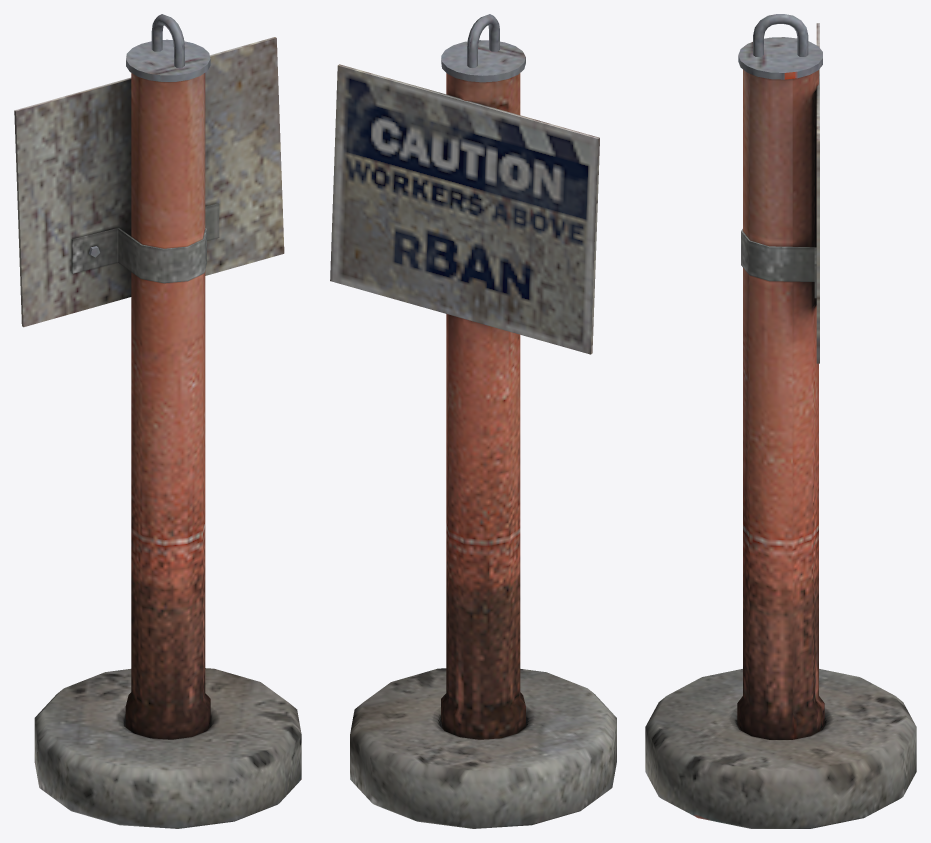
Rendered from SM_caution_pole_a.fbx.
3 views of the same model, side by side, from view 1: azimuth 30°, elevation 25°; view 2: azimuth 150°, elevation 25°; view 3: azimuth 270°, elevation 25° (orthographic).
Parts seen in each view (by area): view 1: SM_caution_pole_a; view 2: SM_caution_pole_a; view 3: SM_caution_pole_a.
Boxes of the visible parts, x1=… form: SM_caution_pole_a: x1=14, y1=14, x2=301, y2=828; SM_caution_pole_a: x1=330, y1=14, x2=616, y2=828; SM_caution_pole_a: x1=645, y1=14, x2=916, y2=828.
Bounding box in the file's own units: 42.23 × 36.78 × 114.
Materials: 1 (1 with a texture image).
